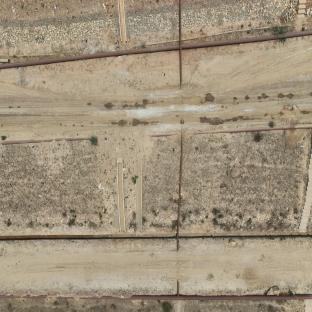rock_toe: (182, 0, 296, 28), (1, 21, 103, 47), (181, 213, 302, 230), (0, 213, 114, 229), (128, 10, 178, 37), (144, 216, 178, 232), (102, 18, 121, 42)
slope_drain: (116, 159, 126, 235), (136, 164, 142, 236), (117, 0, 127, 43)
toe_drain: (0, 232, 178, 241), (178, 231, 311, 240)
